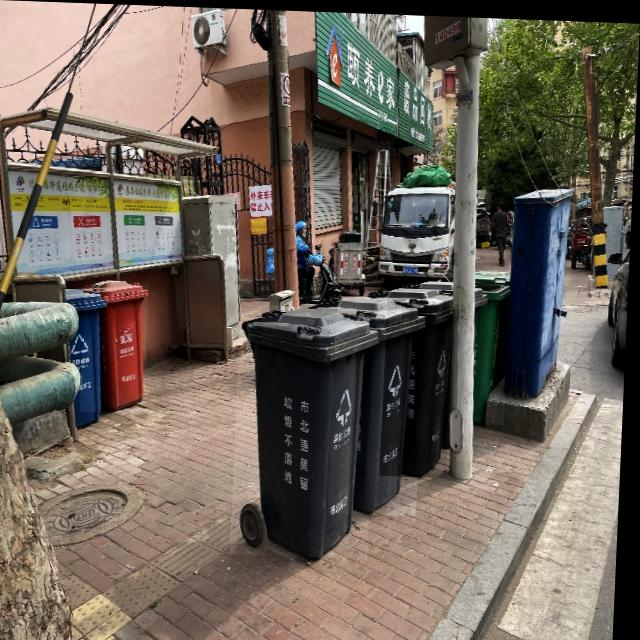garbage_bin: (235, 302, 381, 556), (333, 293, 429, 513), (384, 284, 457, 475), (84, 280, 151, 413), (57, 287, 110, 427), (472, 265, 513, 421)
